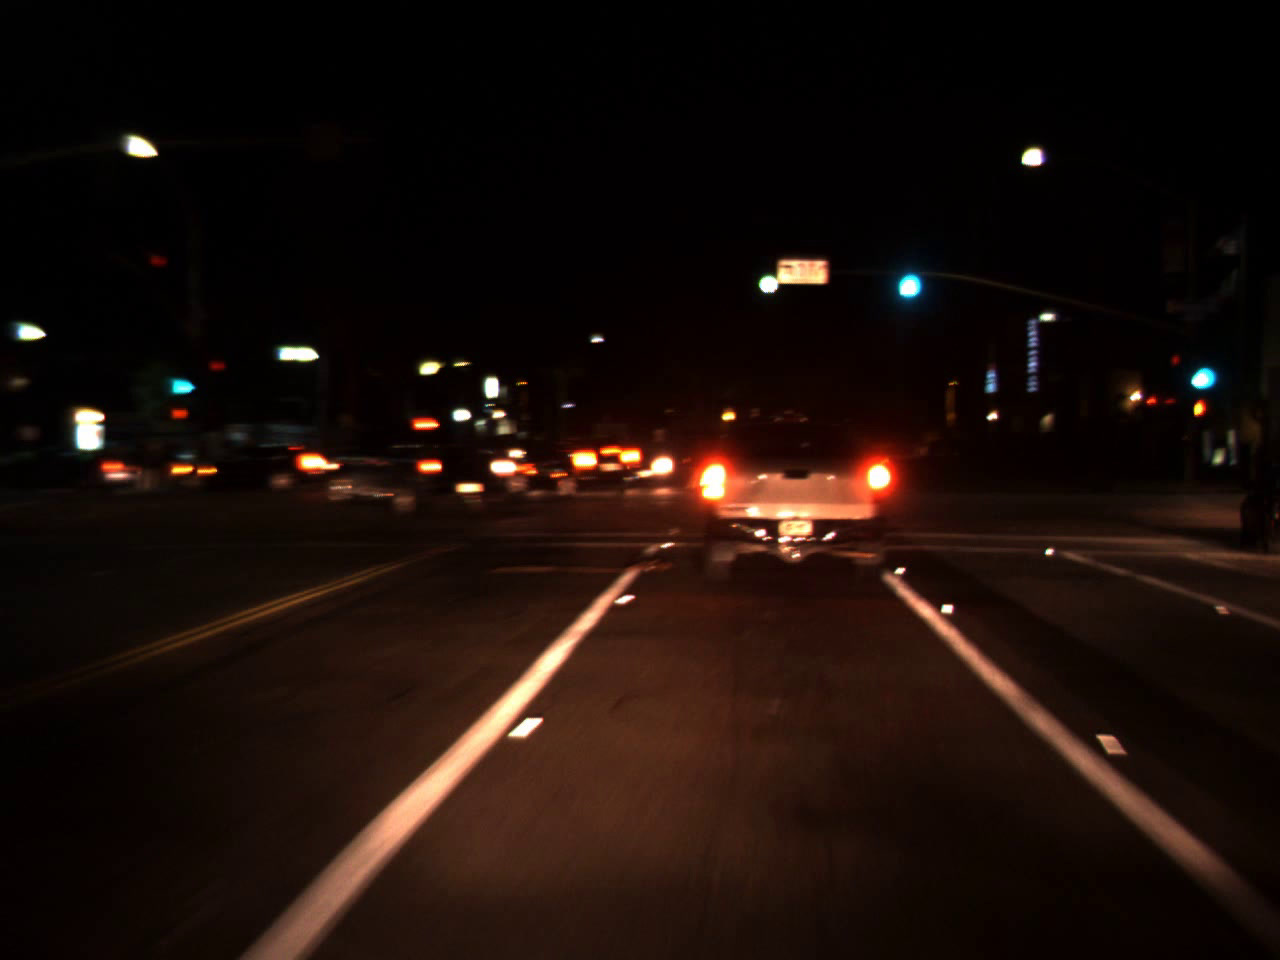go: (888, 246, 925, 306), (1181, 340, 1220, 397), (746, 253, 783, 301), (164, 363, 198, 399)
